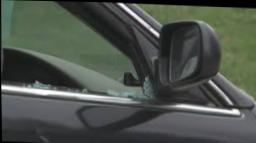Door: (1, 0, 165, 143)
